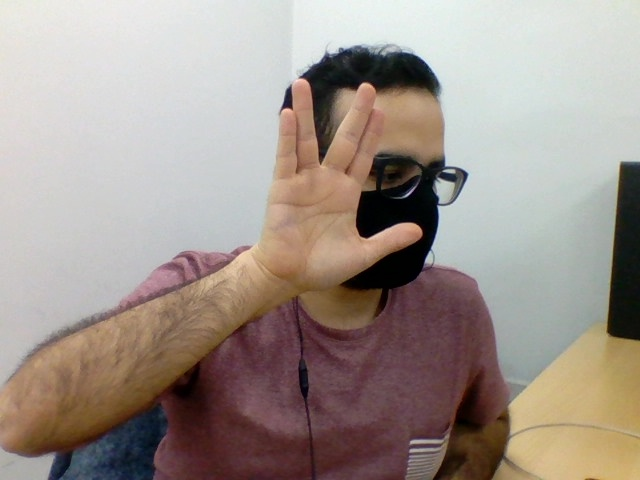LiveLong: (257, 78, 423, 292)
